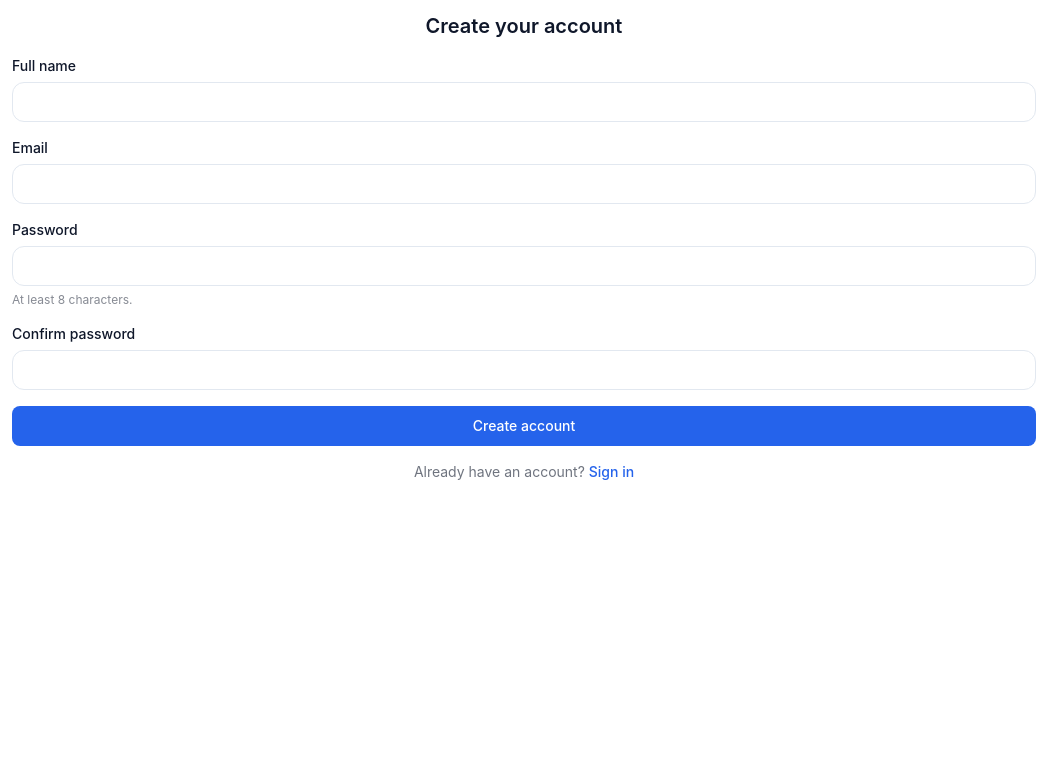
Test case: RegisterPage (integration) › registers, stores the session, and redirects home on success
The image size is (1048, 780).
Type "Jane Doe" into the field labelled "Full name" at (524, 102), box top-left (12, 82), bottom-right (1036, 122)
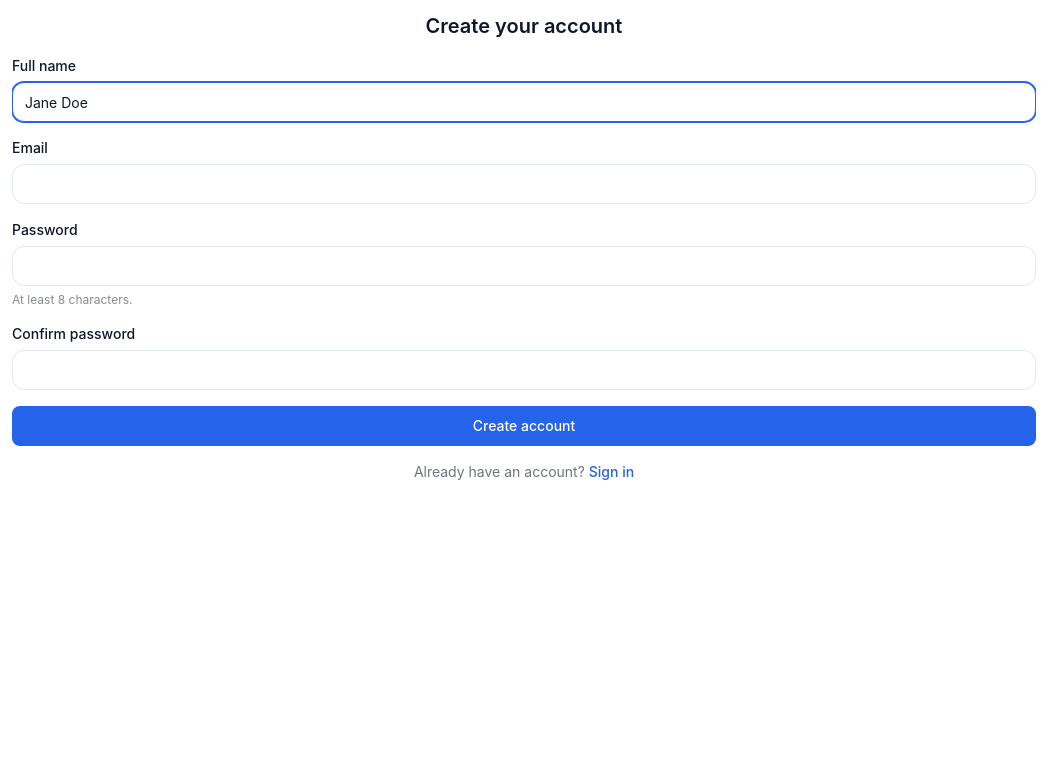
Type "jane@example.com" into the field labelled "Email" at (524, 184), box top-left (12, 164), bottom-right (1036, 204)
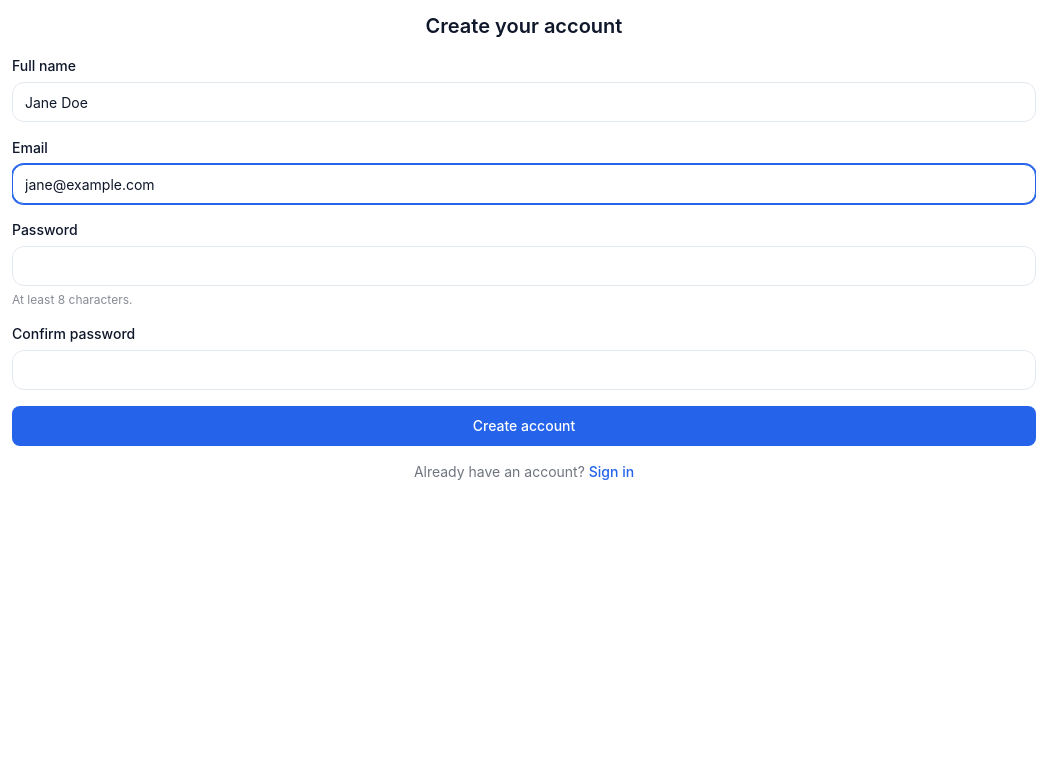
Type "Password123!" into the password field labelled "Password" at (524, 266), box top-left (12, 246), bottom-right (1036, 286)
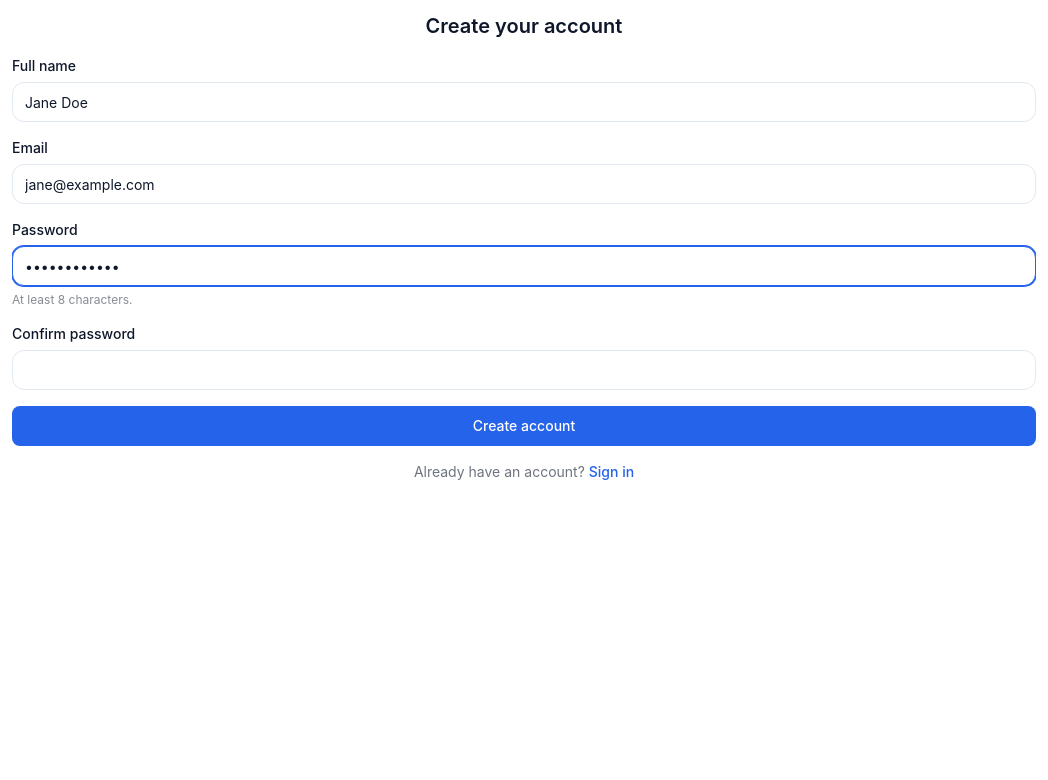
Type "Password123!" into the password field labelled "Confirm password" at (524, 370), box top-left (12, 350), bottom-right (1036, 390)
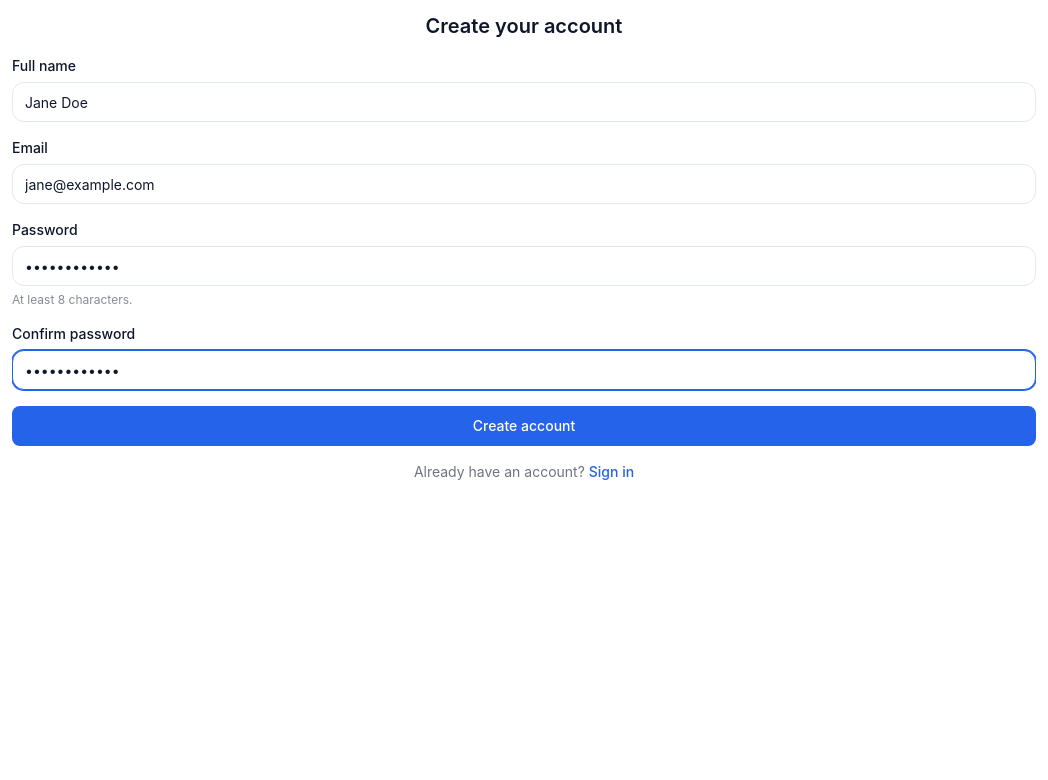
Click the button "Create account" at (524, 426), box top-left (12, 406), bottom-right (1036, 446)
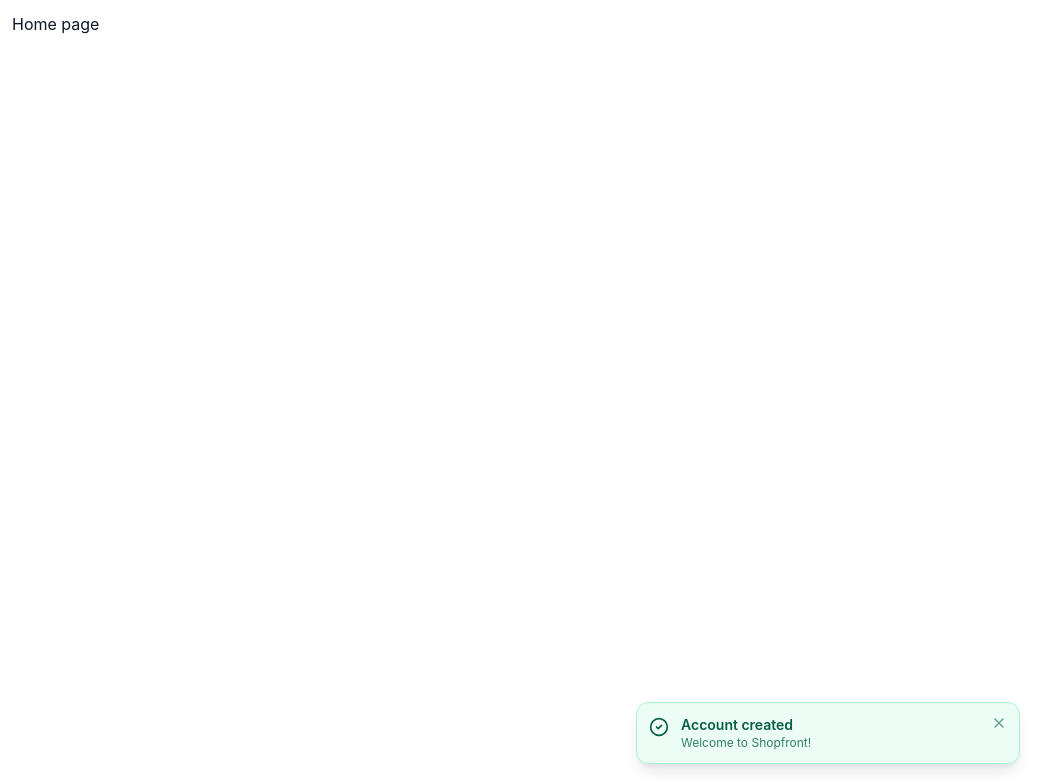
Expected: the text "Home page" is shown, top-left (12, 14), bottom-right (99, 34)
